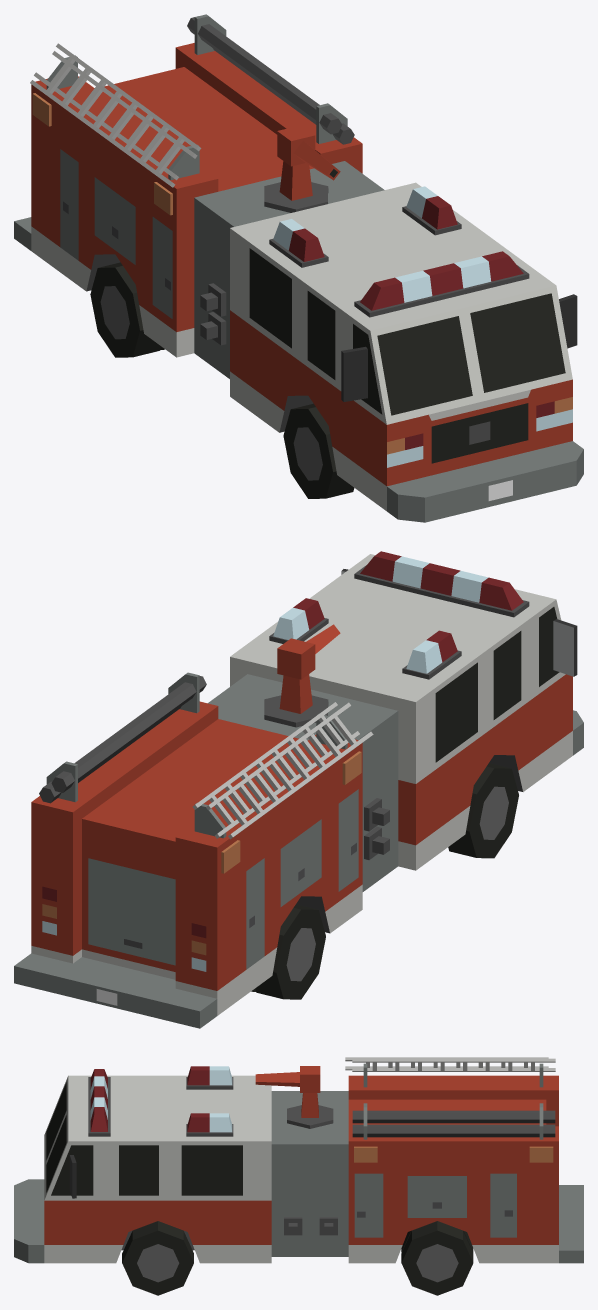
Rendered from Veh_Firetruck.glb.
3 renders of one model, top to bottom at view 1: azimuth 30°, elevation 25°; view 2: azimuth 150°, elevation 25°; view 3: azimuth 270°, elevation 25°, orthographic. The views are drawn at different scales.
Visible parts, largest first — view 1: Firetruck, Wheel_RR, Wheel_FR; view 2: Firetruck, Wheel_RR, Wheel_FR; view 3: Firetruck, Wheel_RL, Wheel_FL.
Part boxes in pixels (x1,y1,x2,y2): Firetruck: [14, 14, 583, 522]; Wheel_RR: [90, 262, 164, 357]; Wheel_FR: [283, 403, 354, 498]; Firetruck: [14, 551, 583, 1028]; Wheel_RR: [251, 904, 325, 999]; Wheel_FR: [448, 763, 518, 858]; Firetruck: [14, 1057, 583, 1263]; Wheel_RL: [401, 1221, 473, 1295]; Wheel_FL: [122, 1221, 193, 1295].
Bounding box in the file's own units: 1.85 × 2.02 × 5.41.
Materials: 1 (1 with a texture image).
